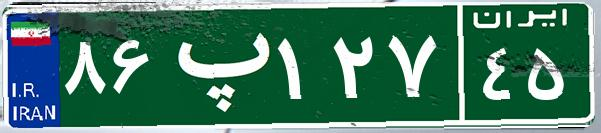1: (273, 28, 330, 110)
2: (330, 28, 385, 110)
4: (475, 38, 525, 113)
5: (525, 38, 570, 115)
6: (110, 28, 158, 105)
7: (385, 28, 445, 110)
8: (57, 26, 110, 107)
پ: (158, 15, 273, 115)
